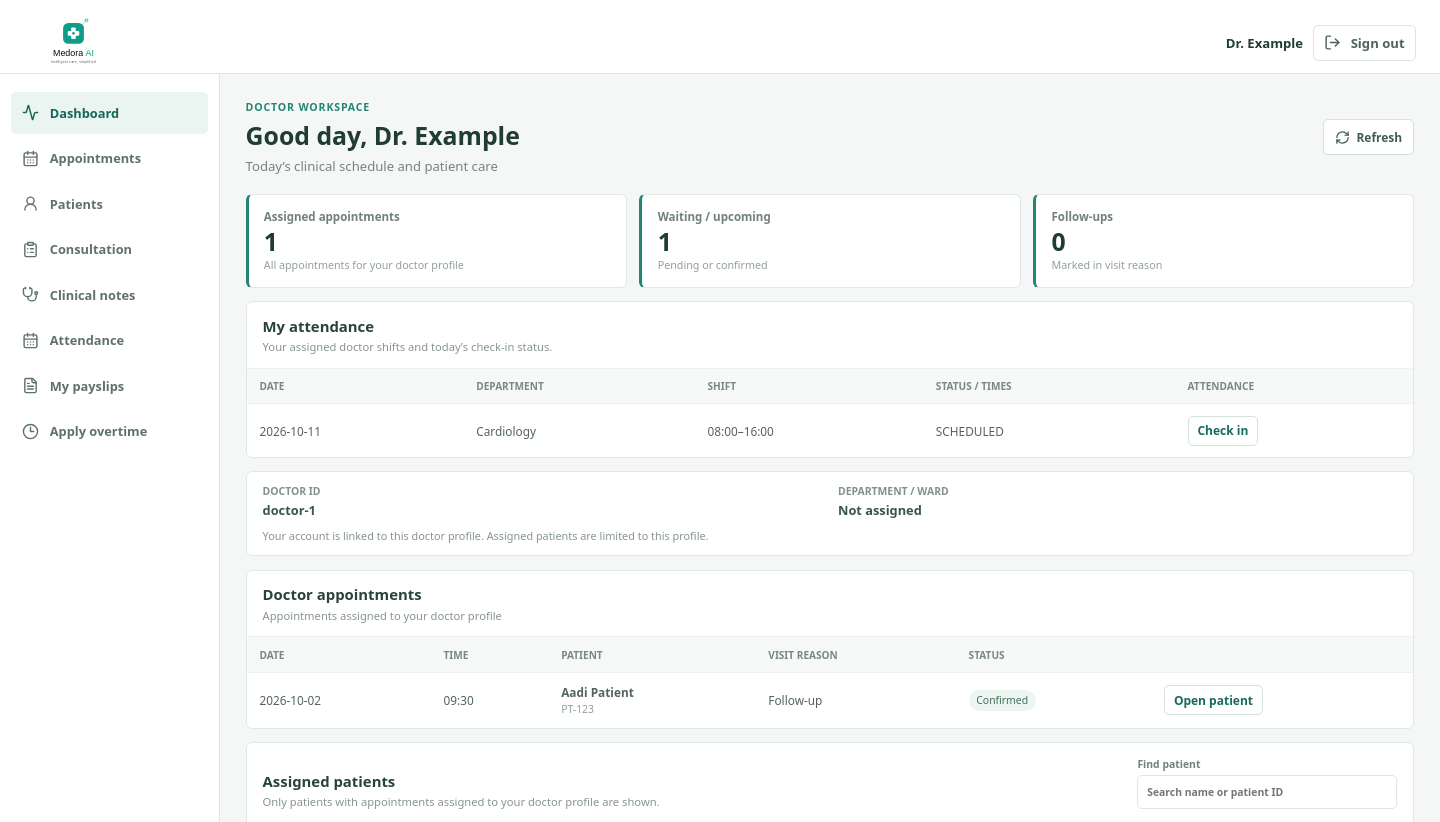
it: doctor can check in to their assigned shift and open their overtime request page
What coordinates should you click on to do the following:
click the button "Check in"
I would click on:
 (1223, 430)
Its box is x1=1188 y1=416 x2=1258 y2=446.
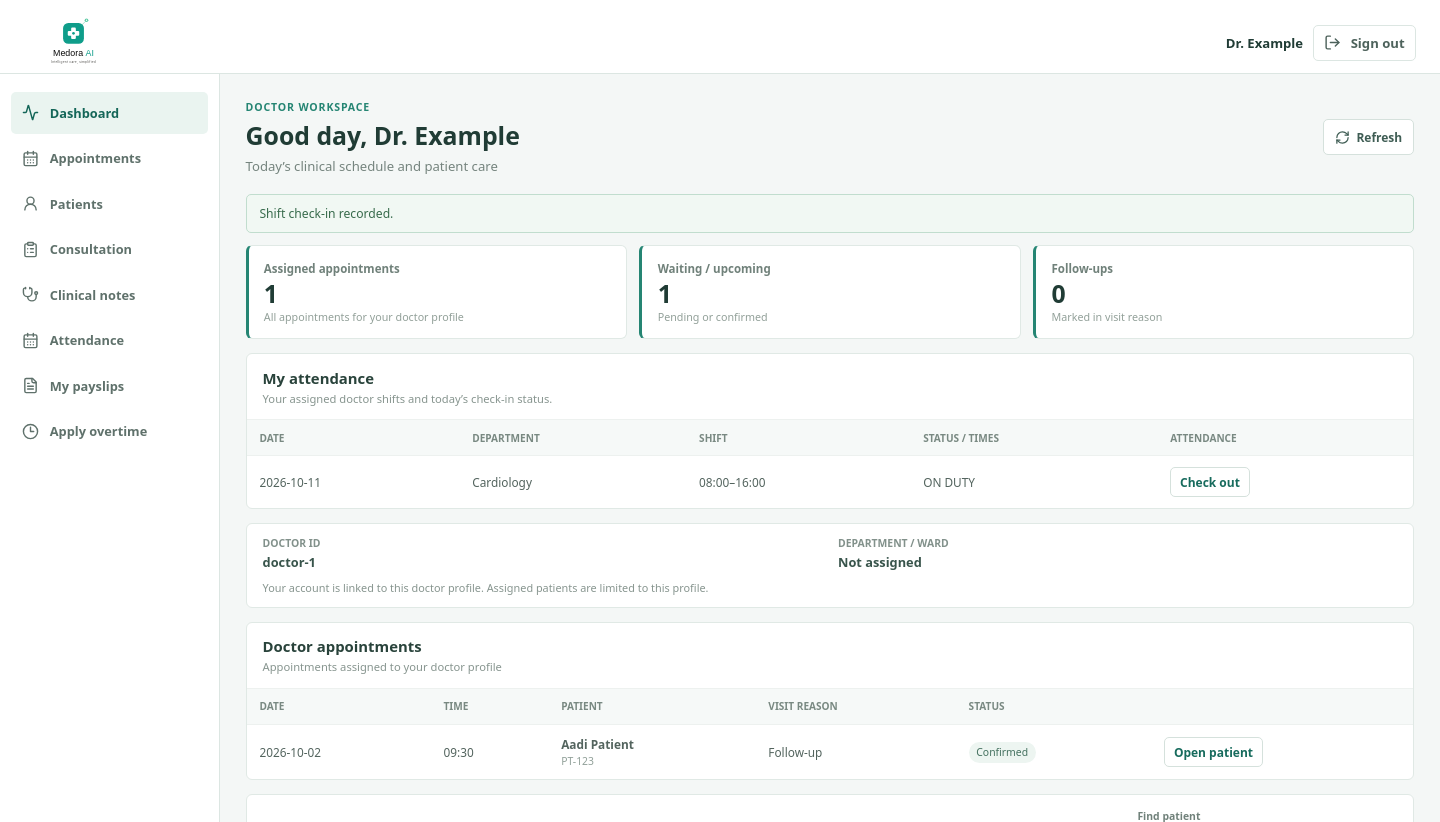
Check: the text "Shift check-in recorded." is shown, box x1=246 y1=194 x2=1414 y2=233
Check: the button "Check in" is gone
